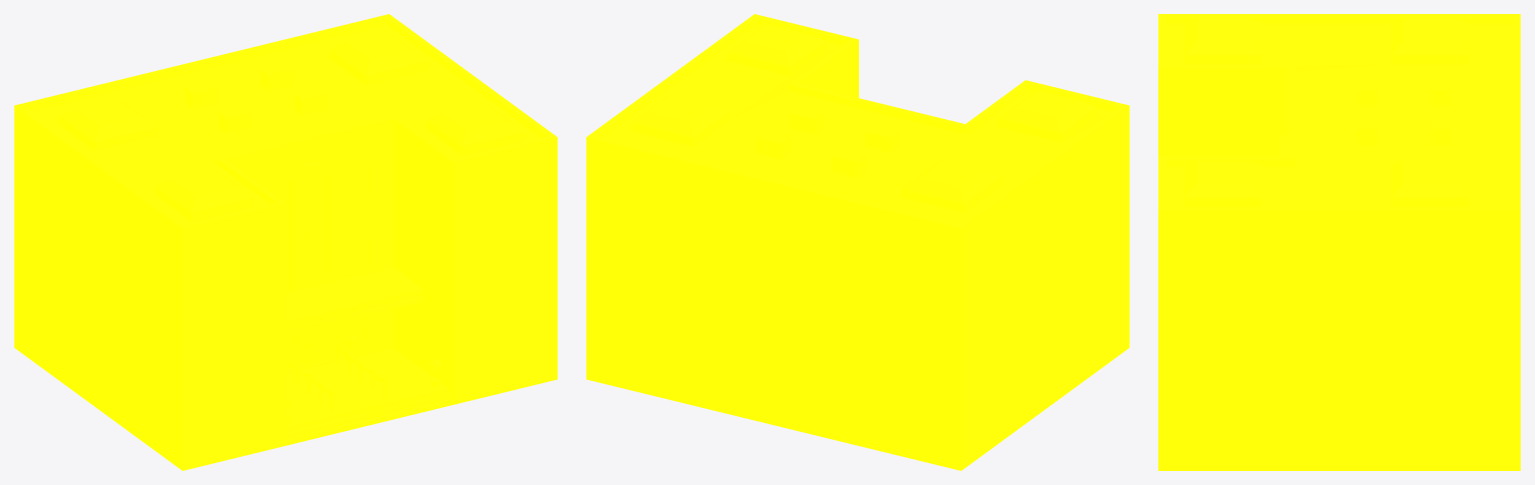
Rendered from building-casino.glb.
The picture shows the model from 3 angles, left to right: view 1: azimuth 30°, elevation 25°; view 2: azimuth 150°, elevation 25°; view 3: azimuth 270°, elevation 25°; orthographic projection. The views are drawn at different scales.
Parts seen in each view (by area): view 1: building-casino; view 2: building-casino; view 3: building-casino.
Part boxes in pixels (bbox=[...]): building-casino: bbox=[14, 14, 557, 470]; building-casino: bbox=[586, 14, 1129, 470]; building-casino: bbox=[1158, 14, 1520, 470].
Size of the model in its own units: 18 by 11.6 by 14.
1 material, 1 textured.
